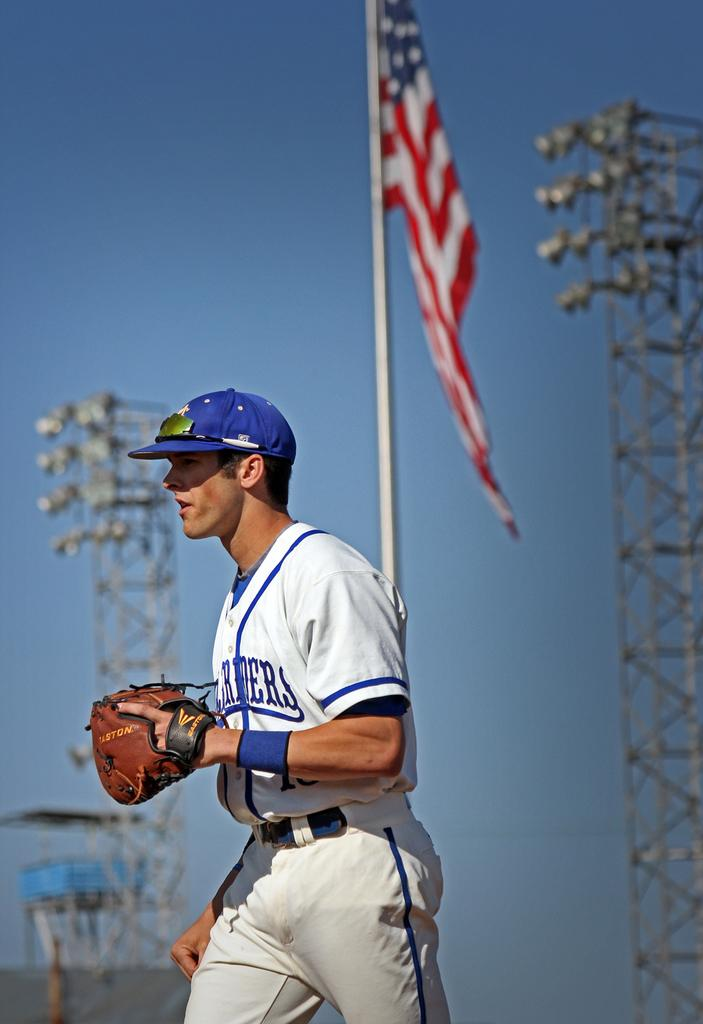Hat: (129, 384, 301, 464)
